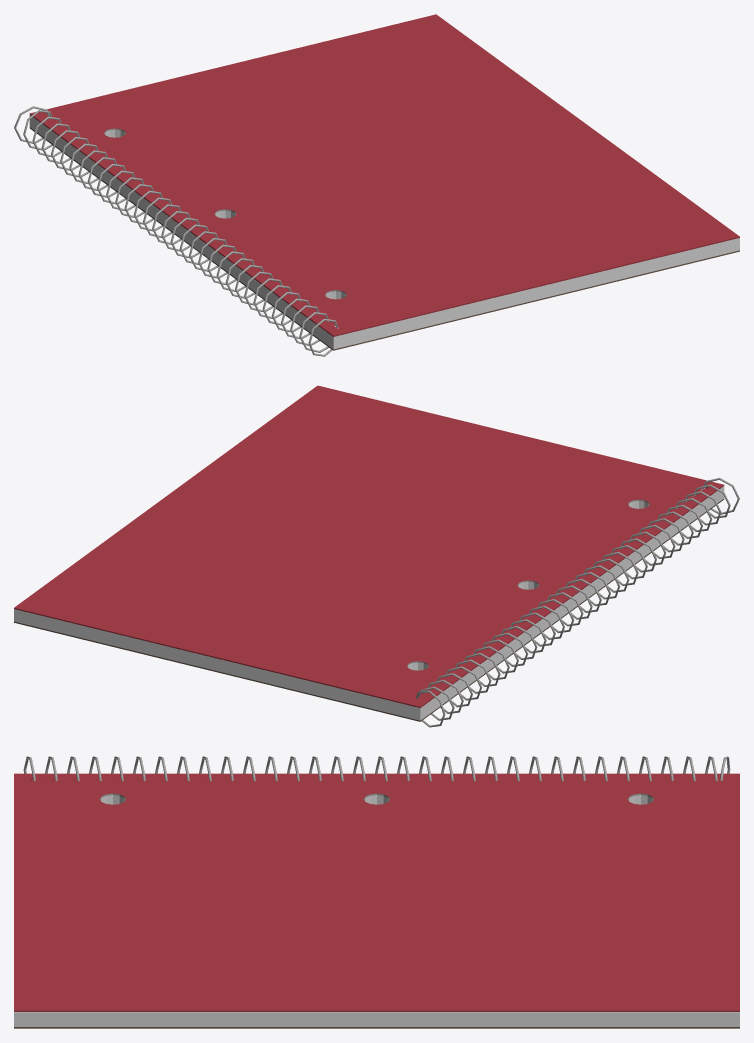
File: SpiralNotebook.fbx
3 renders of one model, top to bottom at view 1: azimuth 30°, elevation 25°; view 2: azimuth 150°, elevation 25°; view 3: azimuth 270°, elevation 25°, orthographic. The views are drawn at different scales.
Parts seen in each view (by area): view 1: SpiralNotebook; view 2: SpiralNotebook; view 3: SpiralNotebook.
Part boxes in pixels (bbox=[...]): SpiralNotebook: bbox=[14, 14, 739, 356]; SpiralNotebook: bbox=[14, 385, 739, 727]; SpiralNotebook: bbox=[14, 756, 739, 1028].
Bounding box in the file's own units: 8.93 × 0.75 × 11.
